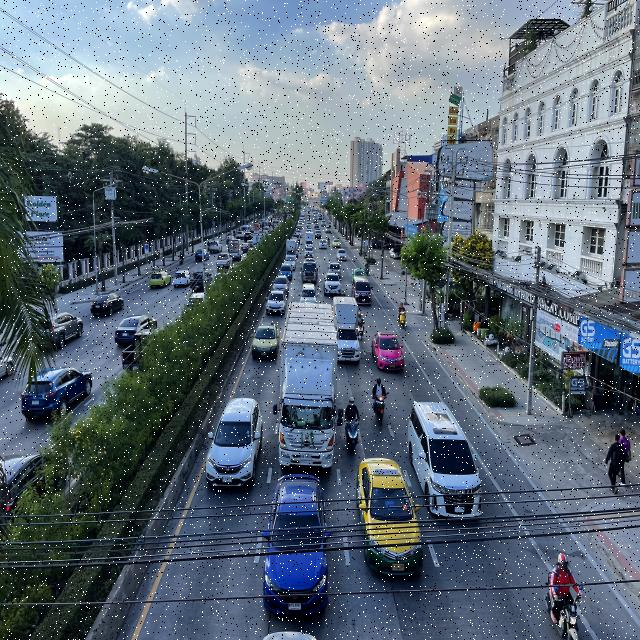bike: (540, 549, 584, 640), (344, 396, 362, 454), (369, 375, 389, 426), (356, 309, 365, 342), (396, 301, 406, 327)
car: (262, 476, 331, 620), (406, 397, 484, 519), (205, 396, 264, 492), (370, 327, 406, 375), (250, 318, 280, 362), (265, 289, 287, 315), (298, 283, 318, 306)
truck: (277, 300, 339, 471), (333, 296, 362, 366), (300, 257, 318, 285)
